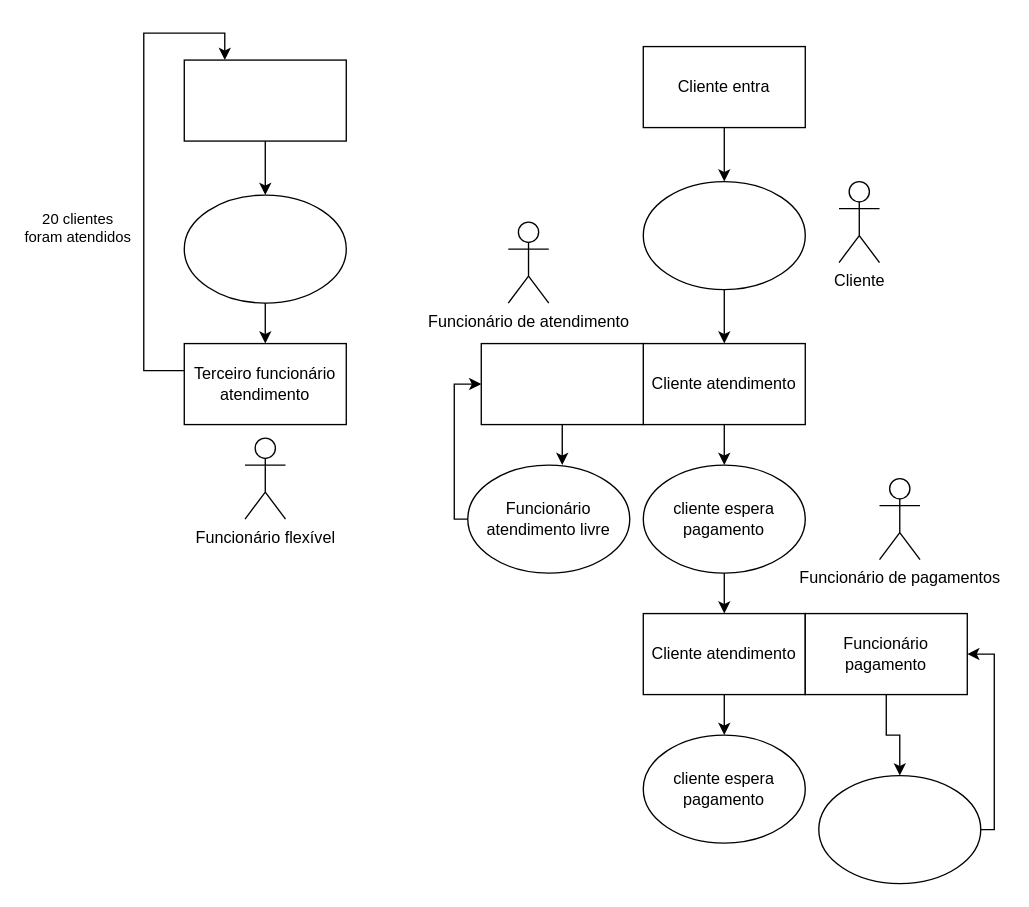
This 1029x907 diagram has some shape labels left out. Each missing label, with the centre of its shape:
"cliente espera atendimento" belongs at (x=723, y=235).
"Funcionário atendimento" belongs at (x=561, y=383).
"Funcionário pagamento livre" belongs at (x=899, y=829).
"Terceiro funcionário a repor alimentos" belongs at (x=264, y=100).
"Terceiro funcionário livre" belongs at (x=264, y=248).
